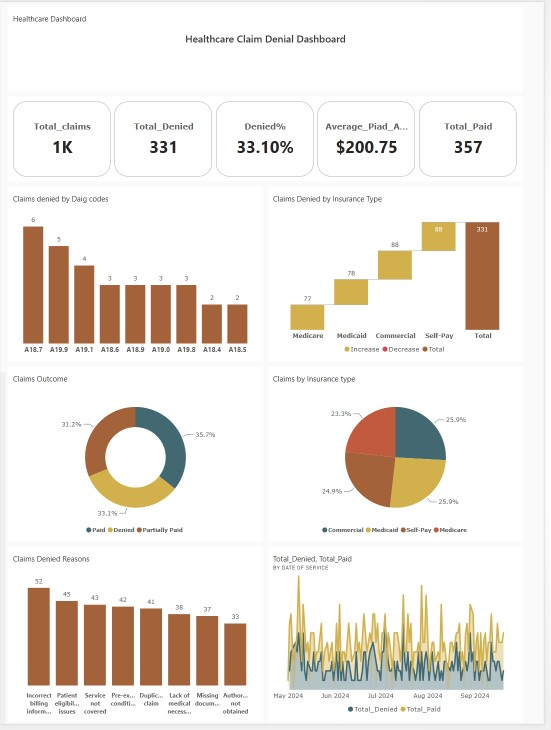

Layout of this report page (visuals, bound fields, positions):
{"tool":"powerbi","page":{"name":"Page 3","canvas":[1280,720],"ordinal":0},"visuals":[{"type":"cardVisual","fields":{"Data":["DAX.Total_claims","DAX.Total_Denied","DAX.Denied%","DAX.Average_Piad_Amount","DAX.Total_Paid"]},"box":[411,0,850,110],"z":0},{"type":"slicer","fields":{"Values":["cleaned_claim_data.Provider ID"]},"box":[0,169,196,76],"z":1000},{"type":"slicer","fields":{"Values":["cleaned_claim_data.Procedure Code"]},"box":[0,248,196,256],"z":2000},{"type":"clusteredColumnChart","title":"Claims Denied  Reasons","fields":{"Y":["DAX.Total_Denied"],"Category":["cleaned_claim_data.Reason Code"]},"box":[573,415,688,305],"z":4000},{"type":"waterfallChart","title":"Claims Denied by Insurance Type","fields":{"Y":["DAX.Total_Denied"],"Category":["cleaned_claim_data.Insurance Type"]},"box":[836.3,131.5,443.7,283.1],"z":5000},{"type":"donutChart","title":"Claims Outcome","fields":{"Category":["cleaned_claim_data.Outcome"],"Y":["DAX.Total_claims"]},"box":[195.8,296.2,214.8,189.7],"z":6000},{"type":"stackedAreaChart","fields":{"Category":["cleaned_claim_data.Date of Service"],"Y":["DAX.Total_Denied","DAX.Total_Paid"]},"box":[0,504,591.3,215.8],"z":7000},{"type":"textbox","box":[0,0,391,48],"z":8000},{"type":"slicer","fields":{"Values":["cleaned_claim_data.Date of Service"]},"box":[0,66,188,103],"z":9000},{"type":"clusteredColumnChart","title":"Claims denied by Daig codes","fields":{"Category":["cleaned_claim_data.Diagnosis Code"],"Y":["DAX.Total_Denied"]},"box":[411,132,434,283],"z":11000},{"type":"pieChart","title":"Claims by Insurance type","fields":{"Category":["cleaned_claim_data.Insurance Type"],"Y":["DAX.Total_claims"]},"box":[195.8,66.3,214.8,213.8],"z":11001}]}

Visuals, with their boxes on the page's 1280x720 design canvas (x1, y1, x2, y2). These are canvas units, not pixel positions in the 551x730 screenshot, which may show the page scaled, cropped or inside an application window:
cardVisual - DAX.Total_claims x DAX.Total_Denied: detection(411, 0, 1261, 110)
slicer - cleaned_claim_data.Provider ID: detection(0, 169, 196, 245)
slicer - cleaned_claim_data.Procedure Code: detection(0, 248, 196, 504)
"Claims Denied  Reasons" clusteredColumnChart: detection(573, 415, 1261, 720)
"Claims Denied by Insurance Type" waterfallChart: detection(836, 132, 1280, 415)
"Claims Outcome" donutChart: detection(196, 296, 411, 486)
stackedAreaChart - cleaned_claim_data.Date of Service x DAX.Total_Denied: detection(0, 504, 591, 720)
textbox: detection(0, 0, 391, 48)
slicer - cleaned_claim_data.Date of Service: detection(0, 66, 188, 169)
"Claims denied by Daig codes" clusteredColumnChart: detection(411, 132, 845, 415)
"Claims by Insurance type" pieChart: detection(196, 66, 411, 280)
